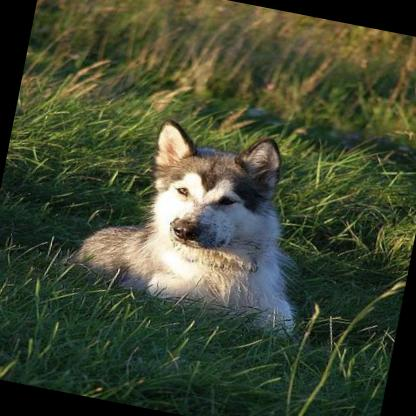malamute: (65, 106, 325, 340)
